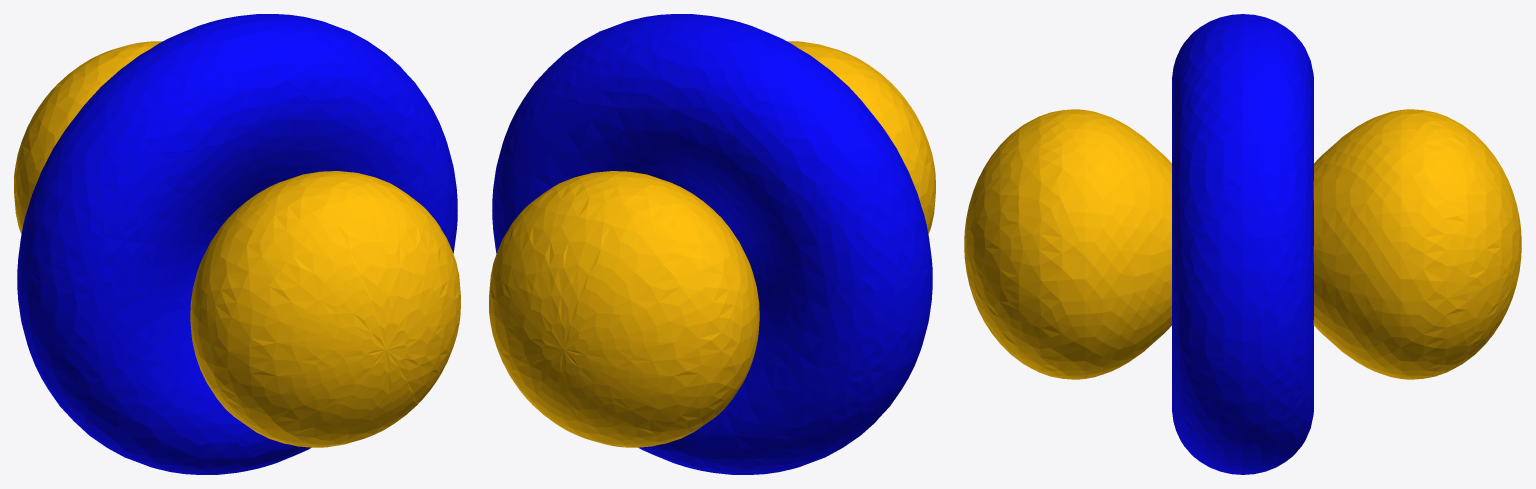
The picture shows the model from 3 angles, left to right: view 1: azimuth 30°, elevation 25°; view 2: azimuth 150°, elevation 25°; view 3: azimuth 270°, elevation 25°; orthographic projection. The views are drawn at different scales.
Size of the model in its own units: 16.29 by 16.29 by 19.69.
